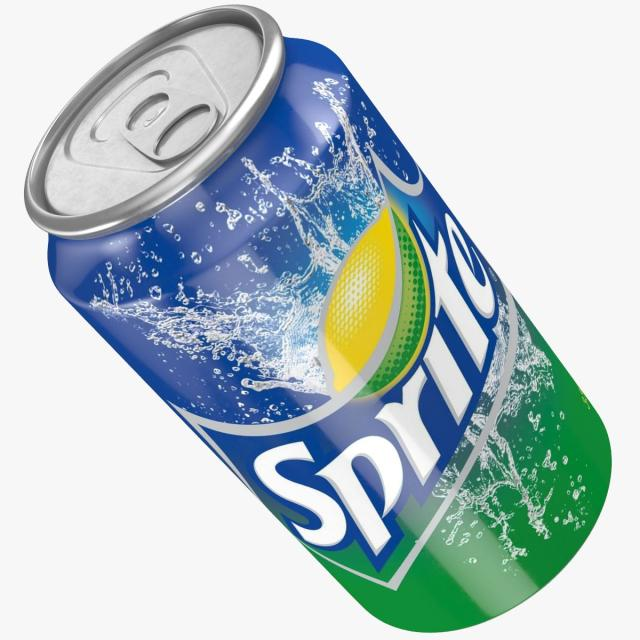sprite: (38, 22, 614, 640)
